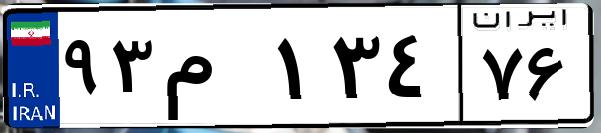1: (270, 28, 330, 110)
3: (330, 28, 385, 110), (110, 28, 158, 98)
4: (385, 28, 445, 110)
6: (525, 38, 570, 115)
7: (475, 38, 525, 113)
9: (57, 26, 110, 100)
م: (158, 20, 270, 120)
